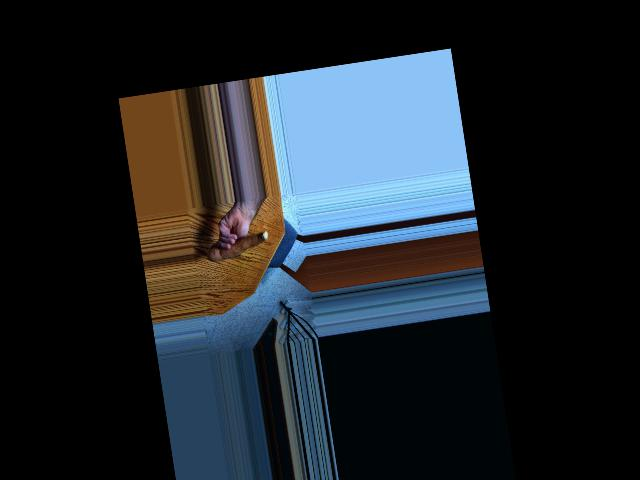sweet_potato: (207, 228, 268, 265)
